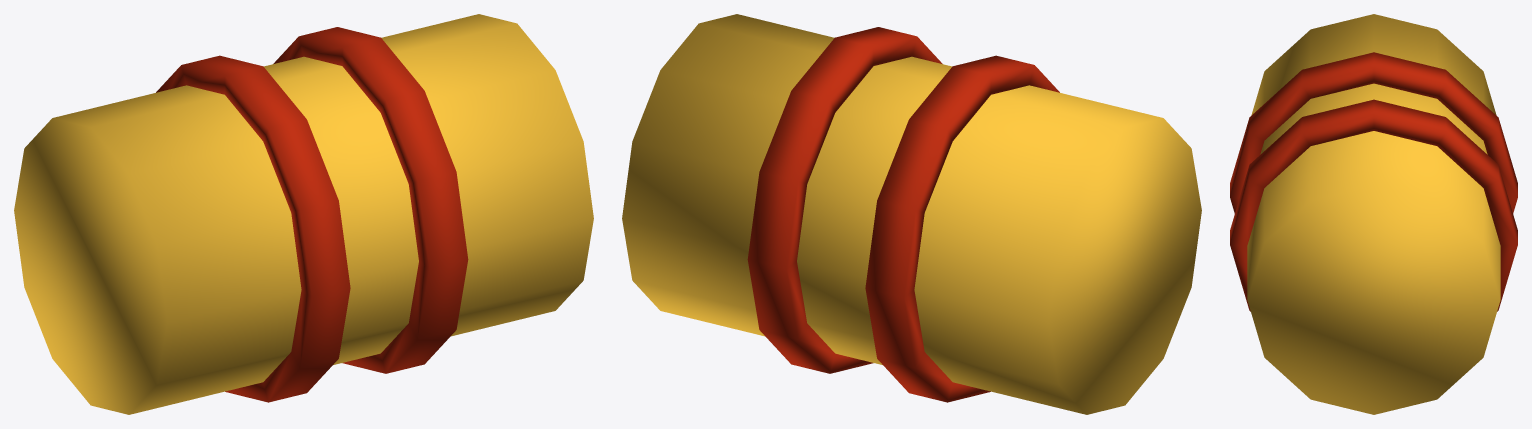
The model's file is Hay_01.fbx.
3 views of the same model, side by side, from view 1: azimuth 30°, elevation 25°; view 2: azimuth 150°, elevation 25°; view 3: azimuth 270°, elevation 25° (orthographic). The views are drawn at different scales.
Parts seen in each view (by area): view 1: Hay_01; view 2: Hay_01; view 3: Hay_01.
Part boxes in pixels (<box>): Hay_01: <box>14,14,593,414</box>; Hay_01: <box>622,14,1201,414</box>; Hay_01: <box>1230,14,1517,414</box>.
Size of the model in its own units: 156 by 110 by 110.
